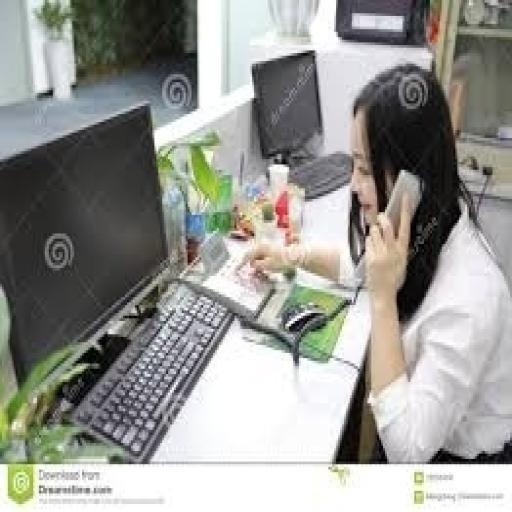calling: (244, 61, 510, 464)
